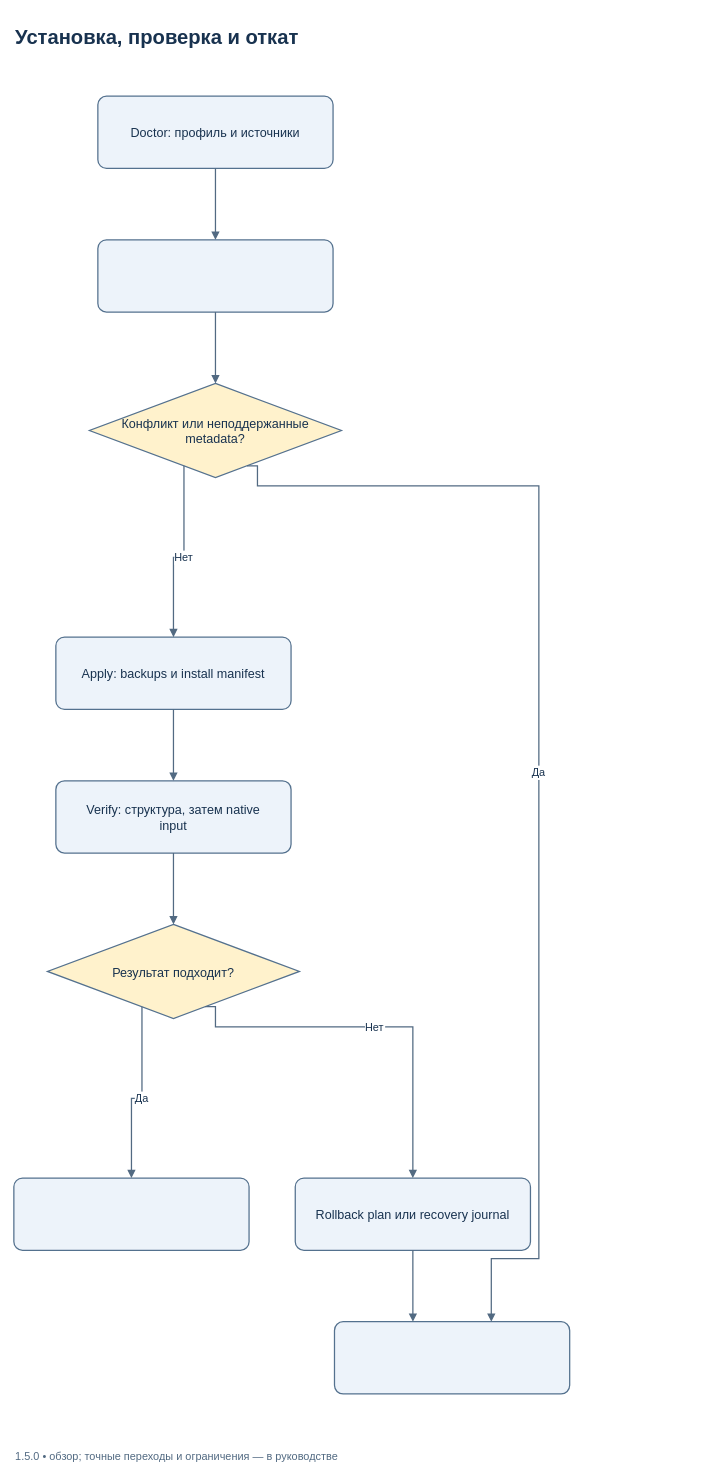
This 717x1483 diagram has some shape labels left out. The centre of each missing label's shape, as x and y in pixels:
Dry-run: пути и адресный diff: the point at 215,275
Новая сессия и проверка поведения: the point at 131,1214
Сохранить файлы и разобрать причину: the point at 451,1357
